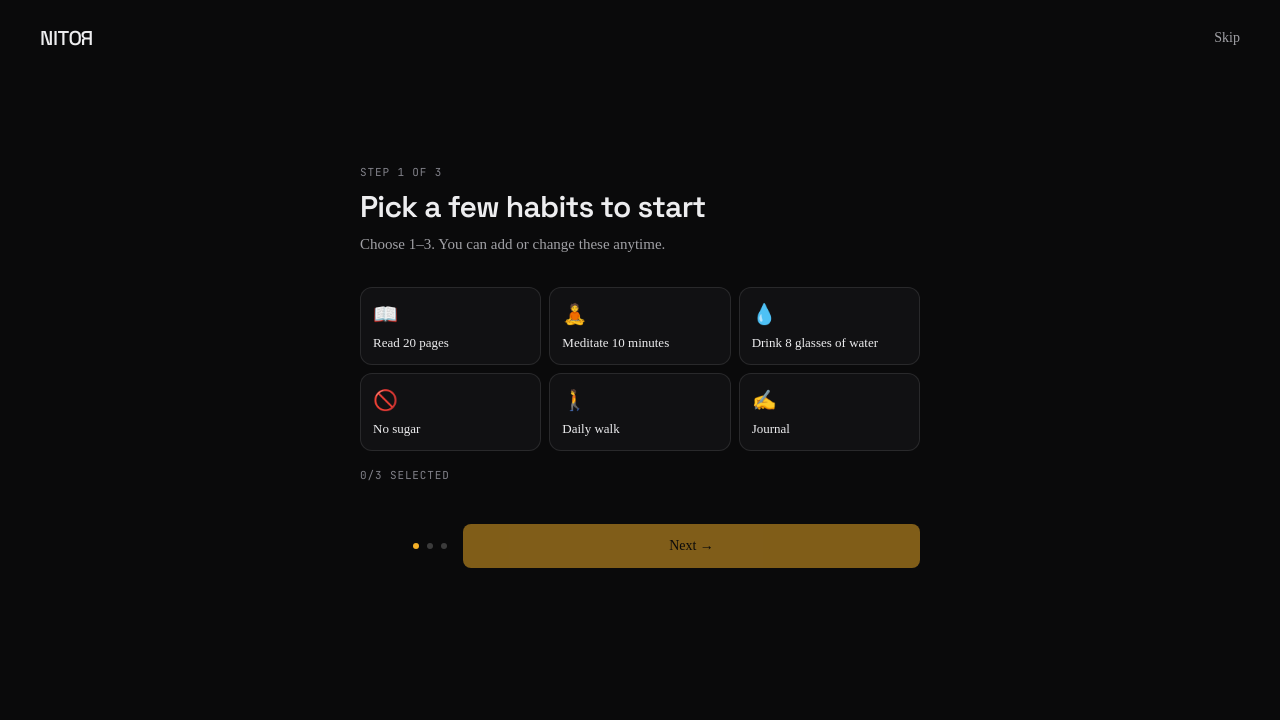
Test: OnboardingPage › Skip › does not strand the user on a failed skip
Step 1. Click the button "Skip" → click(1227, 38), box x1=1214 y1=28 x2=1240 y2=48
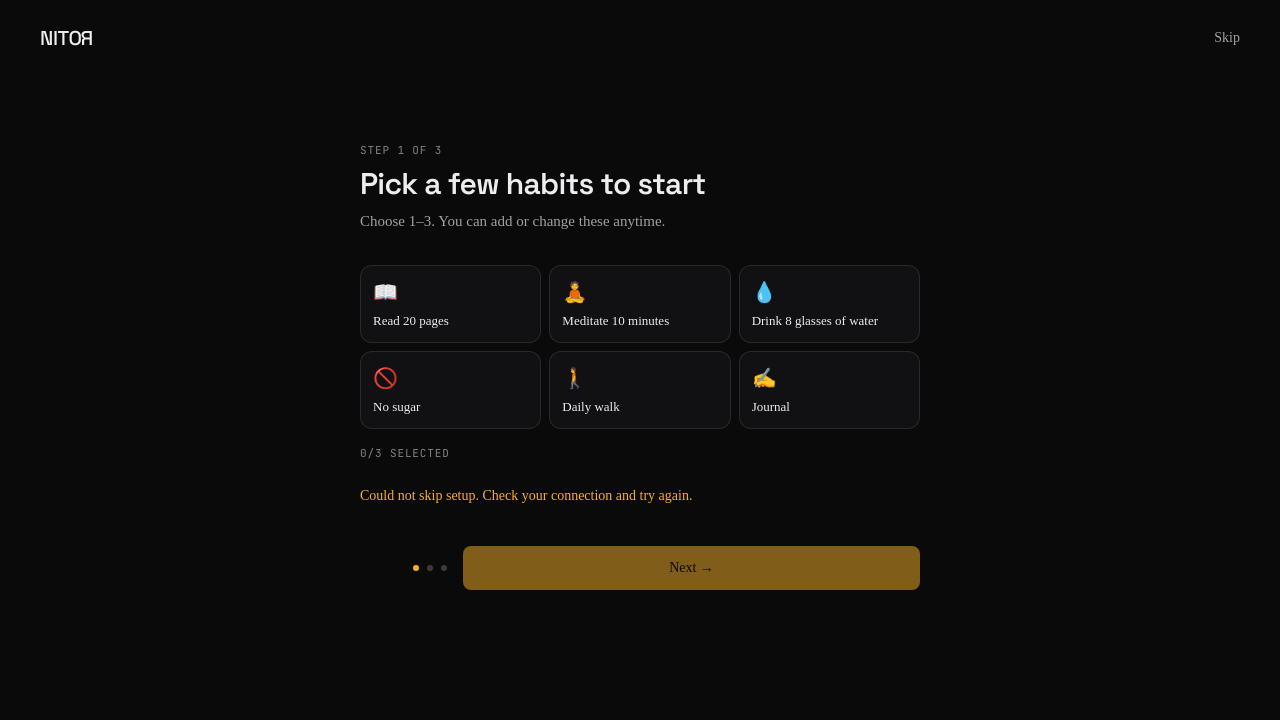
Expected: the message shows "Could not skip setup", x1=360 y1=488 x2=692 y2=503
